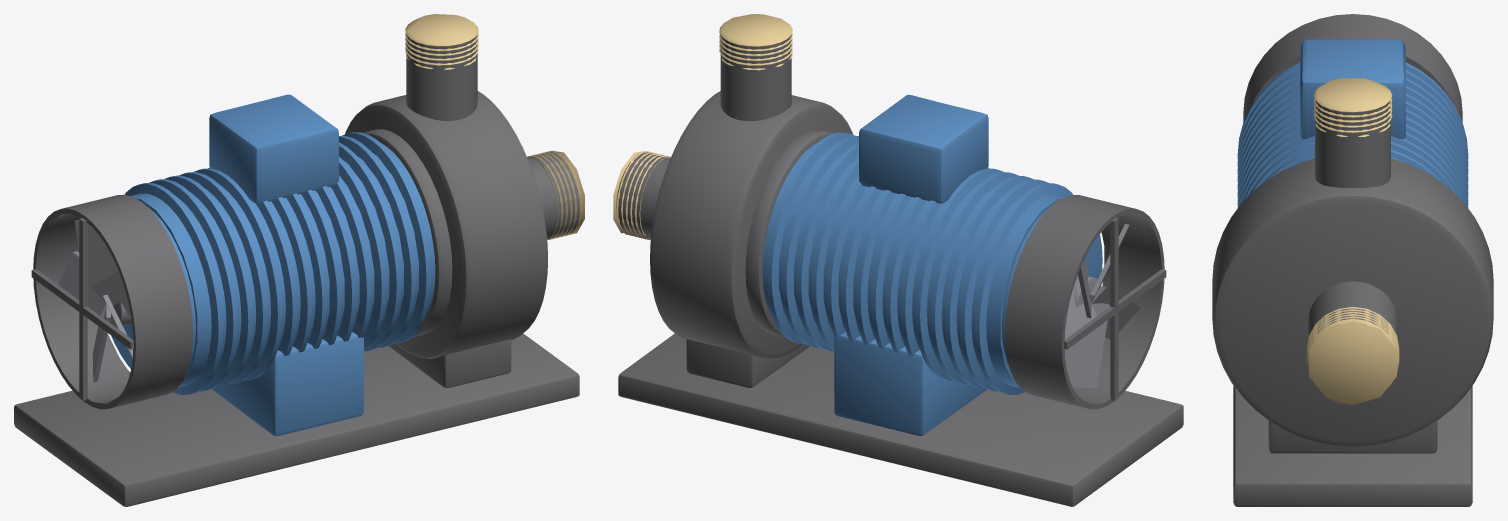
File: HID-BOM-001_lod1.glb
The picture shows the model from 3 angles, left to right: view 1: azimuth 30°, elevation 25°; view 2: azimuth 150°, elevation 25°; view 3: azimuth 270°, elevation 25°; orthographic projection. The views are drawn at different scales.
Visible parts, largest first — view 1: HID-BOM-001_motor, HID-BOM-001_base, HID-BOM-001_voluta, HID-BOM-001_grade, HID-BOM-001_ligacao, HID-BOM-001_pe_m, HID-BOM-001_recalque, HID-BOM-001_rotor, HID-BOM-001_flange, HID-BOM-001_pe_b, HID-BOM-001_rosca_r, HID-BOM-001_succao (+4 smaller); view 2: HID-BOM-001_motor, HID-BOM-001_base, HID-BOM-001_voluta, HID-BOM-001_grade, HID-BOM-001_ligacao, HID-BOM-001_pe_m, HID-BOM-001_recalque, HID-BOM-001_rotor, HID-BOM-001_flange, HID-BOM-001_pe_b, HID-BOM-001_rosca_r, HID-BOM-001_succao (+4 smaller); view 3: HID-BOM-001_voluta, HID-BOM-001_base, HID-BOM-001_motor, HID-BOM-001_rosca_s, HID-BOM-001_grade, HID-BOM-001_ligacao, HID-BOM-001_recalque, HID-BOM-001_rosca_r, HID-BOM-001_succao, HID-BOM-001_pe_b.
Boxes of the visible parts, <box> form: HID-BOM-001_motor: <box>125,132,435,394</box>; HID-BOM-001_base: <box>14,333,579,506</box>; HID-BOM-001_voluta: <box>345,91,547,358</box>; HID-BOM-001_grade: <box>33,194,192,409</box>; HID-BOM-001_ligacao: <box>209,94,338,203</box>; HID-BOM-001_pe_m: <box>211,332,363,435</box>; HID-BOM-001_recalque: <box>406,35,477,120</box>; HID-BOM-001_rotor: <box>58,220,132,382</box>; HID-BOM-001_flange: <box>363,129,452,337</box>; HID-BOM-001_pe_b: <box>389,339,511,387</box>; HID-BOM-001_rosca_r: <box>405,14,478,69</box>; HID-BOM-001_succao: <box>527,152,579,238</box>; HID-BOM-001_motor: <box>762,132,1072,394</box>; HID-BOM-001_base: <box>618,333,1183,506</box>; HID-BOM-001_voluta: <box>650,91,852,358</box>; HID-BOM-001_grade: <box>1005,195,1164,409</box>; HID-BOM-001_ligacao: <box>859,94,988,203</box>; HID-BOM-001_pe_m: <box>834,332,986,435</box>; HID-BOM-001_recalque: <box>720,35,791,121</box>; HID-BOM-001_rotor: <box>1064,223,1140,388</box>; HID-BOM-001_flange: <box>745,129,834,337</box>; HID-BOM-001_pe_b: <box>686,339,809,387</box>; HID-BOM-001_rosca_r: <box>719,14,792,70</box>; HID-BOM-001_succao: <box>618,152,670,239</box>; HID-BOM-001_voluta: <box>1212,158,1493,446</box>; HID-BOM-001_base: <box>1233,385,1472,506</box>; HID-BOM-001_motor: <box>1237,62,1468,207</box>; HID-BOM-001_rosca_s: <box>1306,307,1399,404</box>; HID-BOM-001_grade: <box>1243,14,1462,121</box>; HID-BOM-001_ligacao: <box>1300,39,1405,139</box>; HID-BOM-001_recalque: <box>1315,101,1390,188</box>; HID-BOM-001_rosca_r: <box>1313,78,1392,136</box>; HID-BOM-001_succao: <box>1308,281,1397,341</box>; HID-BOM-001_pe_b: <box>1268,421,1437,453</box>.
Bounding box in the file's own units: 0.434 × 0.292 × 0.2.
